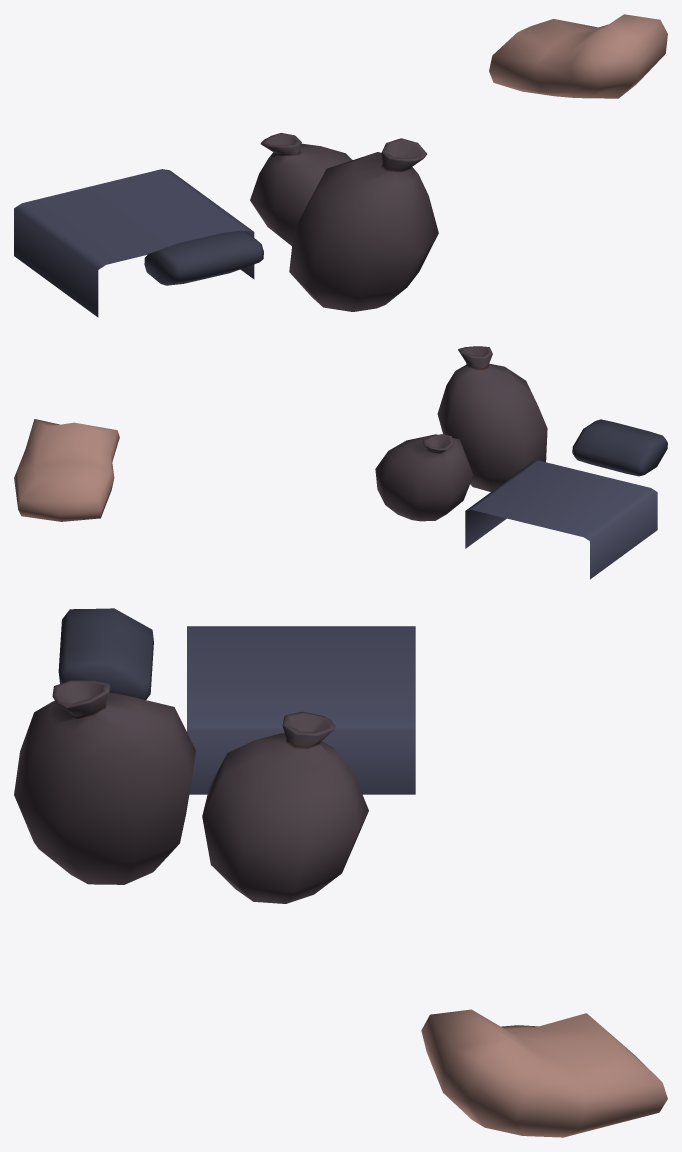
File: oldseamanroom2.fbx
3 views of the same model, one above another, from view 1: azimuth 30°, elevation 25°; view 2: azimuth 150°, elevation 25°; view 3: azimuth 270°, elevation 25° (orthographic). The views are drawn at different scales.
Parts seen in each view (by area): view 1: oldseamanroom2; view 2: oldseamanroom2; view 3: oldseamanroom2.
Part boxes in pixels (bbox=[...]): oldseamanroom2: bbox=[14, 14, 667, 317]; oldseamanroom2: bbox=[14, 346, 667, 579]; oldseamanroom2: bbox=[14, 608, 667, 1137].
Size of the model in its own units: 567 by 121 by 350.
